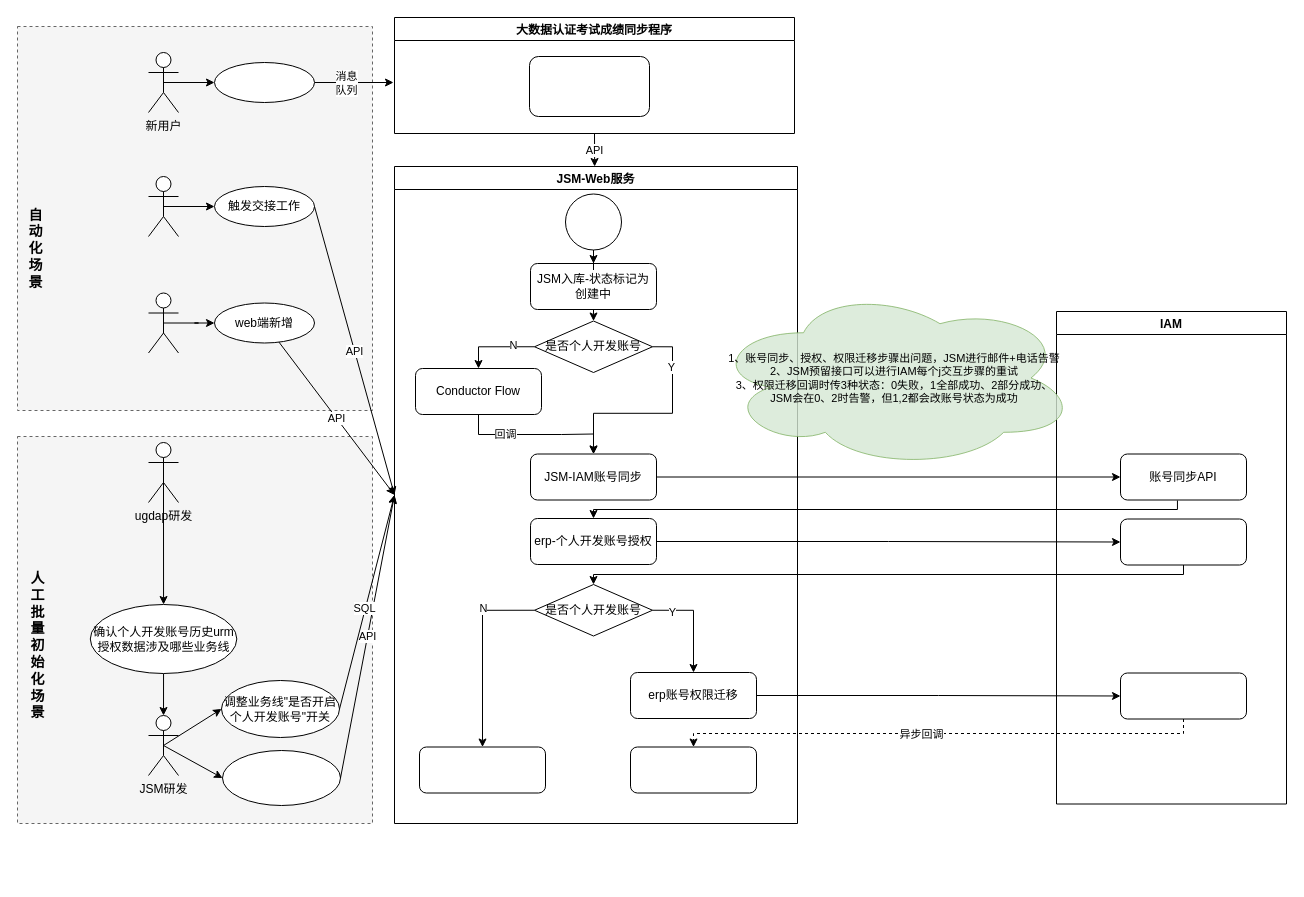
The diagram is 1304 pixels wide and 897 high, and some of its shapes have lost their labels. Here are the shapes that lost their labels. From the top down, the centre of each, then its label:
At (x=264, y=82): "参加京英平台 大数据认证考试".
At (x=589, y=86): "考试通过用户erp".
At (x=163, y=206): "离职用户".
At (x=593, y=221): "创建账号流程".
At (x=163, y=322): "JSM管理员".
At (x=1183, y=541): "erp-个人开发账号授权API".
At (x=1183, y=695): "erp账号权限迁移API".
At (x=281, y=778): "批量初始化接口".
At (x=482, y=769): "状态标记为 成功".
At (x=693, y=769): "回调接口-状态标记为 成功".
